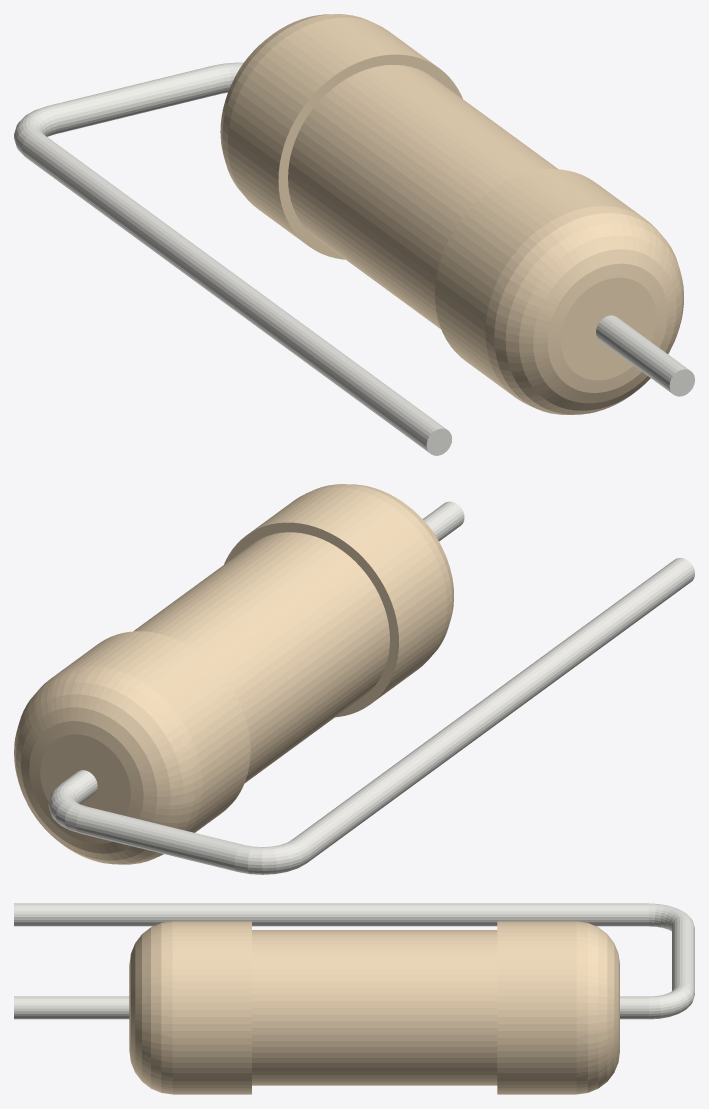
Rendered from R_Axial_DIN0617_L17.0mm_D6.0mm_P7.62mm_Vertical.glb.
3 views of the same model, one above another, from view 1: azimuth 30°, elevation 25°; view 2: azimuth 150°, elevation 25°; view 3: azimuth 270°, elevation 25° (orthographic). The views are drawn at different scales.
Parts seen in each view (by area): view 1: Shape_IndexedFaceSet.004, Shape_IndexedFaceSet.001, Shape_IndexedFaceSet.015, Shape_IndexedFaceSet, Shape_IndexedFaceSet.008, Shape_IndexedFaceSet.003, Shape_IndexedFaceSet.013, Shape_IndexedFaceSet.006, Shape_IndexedFaceSet.005, Shape_IndexedFaceSet.009, Shape_IndexedFaceSet.014; view 2: Shape_IndexedFaceSet.004, Shape_IndexedFaceSet.009, Shape_IndexedFaceSet.015, Shape_IndexedFaceSet, Shape_IndexedFaceSet.008, Shape_IndexedFaceSet.013, Shape_IndexedFaceSet.010, Shape_IndexedFaceSet.002, Shape_IndexedFaceSet.014, Shape_IndexedFaceSet.001, Shape_IndexedFaceSet.012, Shape_IndexedFaceSet.005 (+1 smaller); view 3: Shape_IndexedFaceSet.004, Shape_IndexedFaceSet.015, Shape_IndexedFaceSet, Shape_IndexedFaceSet.008, Shape_IndexedFaceSet.009, Shape_IndexedFaceSet.001, Shape_IndexedFaceSet.005, Shape_IndexedFaceSet.013, Shape_IndexedFaceSet.012, Shape_IndexedFaceSet.014, Shape_IndexedFaceSet.011.
Boxes of the visible parts, box(x1,y1,x2,y2) form: Shape_IndexedFaceSet.004: box(288, 65, 558, 329); Shape_IndexedFaceSet.001: box(485, 206, 683, 414); Shape_IndexedFaceSet.015: box(22, 132, 446, 452); Shape_IndexedFaceSet: box(435, 169, 644, 395); Shape_IndexedFaceSet.008: box(228, 17, 436, 244); Shape_IndexedFaceSet.003: box(561, 277, 656, 380); Shape_IndexedFaceSet.013: box(48, 65, 224, 134); Shape_IndexedFaceSet.006: box(278, 54, 462, 259); Shape_IndexedFaceSet.005: box(596, 315, 689, 393); Shape_IndexedFaceSet.009: box(220, 14, 372, 197); Shape_IndexedFaceSet.014: box(14, 106, 57, 155); Shape_IndexedFaceSet.004: box(133, 532, 389, 783); Shape_IndexedFaceSet.009: box(14, 666, 202, 864); Shape_IndexedFaceSet.015: box(292, 558, 694, 861); Shape_IndexedFaceSet: box(249, 487, 446, 701); Shape_IndexedFaceSet.008: box(52, 631, 250, 832); Shape_IndexedFaceSet.013: box(76, 806, 243, 871); Shape_IndexedFaceSet.010: box(40, 734, 130, 815); Shape_IndexedFaceSet.002: box(224, 522, 398, 717); Shape_IndexedFaceSet.014: box(234, 839, 310, 874); Shape_IndexedFaceSet.001: box(310, 484, 453, 656); Shape_IndexedFaceSet.012: box(48, 783, 85, 832); Shape_IndexedFaceSet.005: box(423, 501, 464, 541); Shape_IndexedFaceSet.004: box(252, 930, 497, 1085); Shape_IndexedFaceSet.015: box(14, 903, 648, 926); Shape_IndexedFaceSet: box(172, 921, 251, 1094); Shape_IndexedFaceSet.008: box(497, 921, 576, 1094); Shape_IndexedFaceSet.009: box(576, 921, 619, 1094); Shape_IndexedFaceSet.001: box(129, 921, 172, 1094); Shape_IndexedFaceSet.005: box(14, 996, 129, 1019); Shape_IndexedFaceSet.013: box(672, 919, 694, 990); Shape_IndexedFaceSet.012: box(649, 983, 694, 1019); Shape_IndexedFaceSet.014: box(649, 903, 693, 931); Shape_IndexedFaceSet.011: box(620, 996, 648, 1019).
Size of the model in its own units: 4.34 by 2.36 by 9.29.
